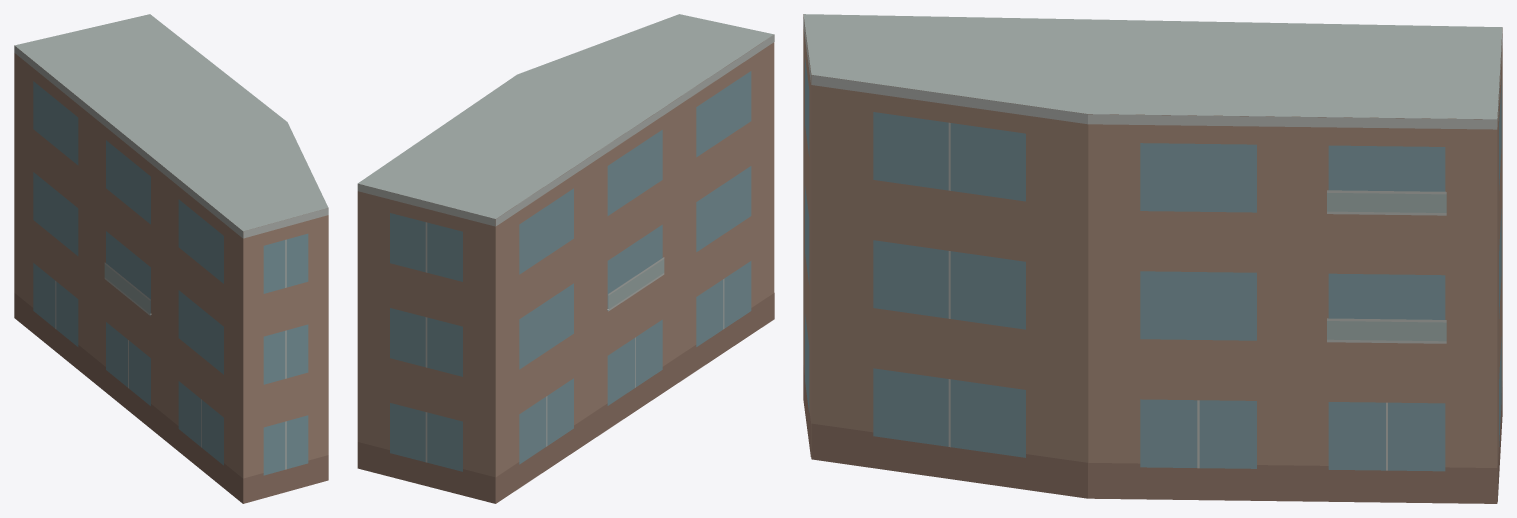
Rendered from survey-upis-32506546.glb.
3 views of the same model, side by side, from view 1: azimuth 30°, elevation 25°; view 2: azimuth 150°, elevation 25°; view 3: azimuth 270°, elevation 25° (orthographic). The views are drawn at different scales.
Parts seen in each view (by area): view 1: survey-upis-32506546.tmp; view 2: survey-upis-32506546.tmp; view 3: survey-upis-32506546.tmp.
Boxes of the visible parts, left/top/right/bottom form: survey-upis-32506546.tmp: left=14, top=14, right=328, bottom=503; survey-upis-32506546.tmp: left=357, top=14, right=774, bottom=503; survey-upis-32506546.tmp: left=803, top=14, right=1502, bottom=503.
Bounding box in the file's own units: 5.38 × 9.15 × 15.09.
